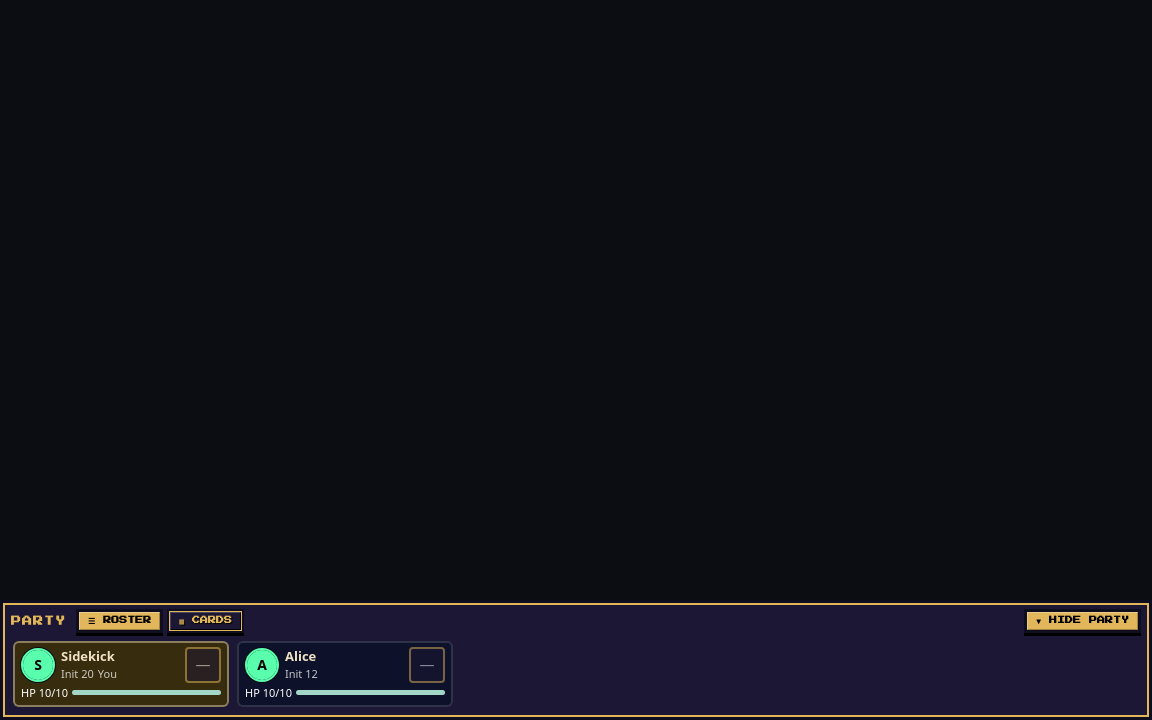
EntitiesPanel — the DM's own character: the bench and the order (F3) › after END COMBAT (initiative kept) the DM's character is home on the bench
This screenshot has width=1152, height=720.
Click the button "▦ Cards" at coordinates (206, 620), box [167,608,244,632]
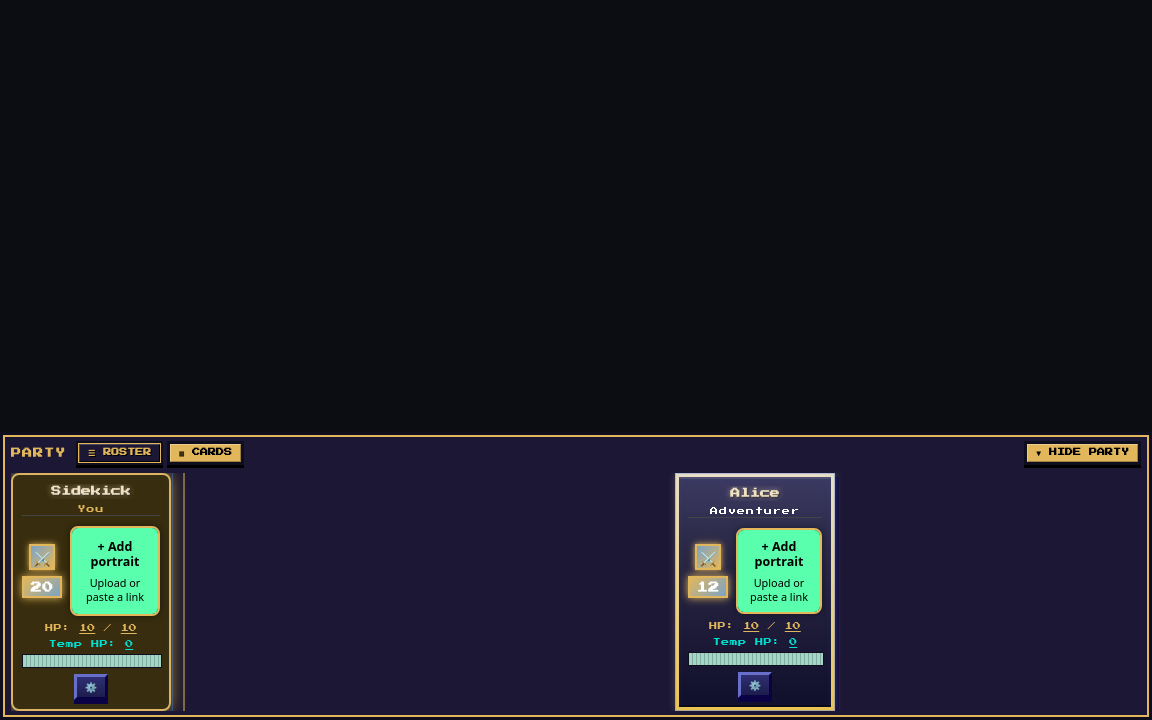
Now the text "Sidekick" is shown, box [51,486,131,496]
